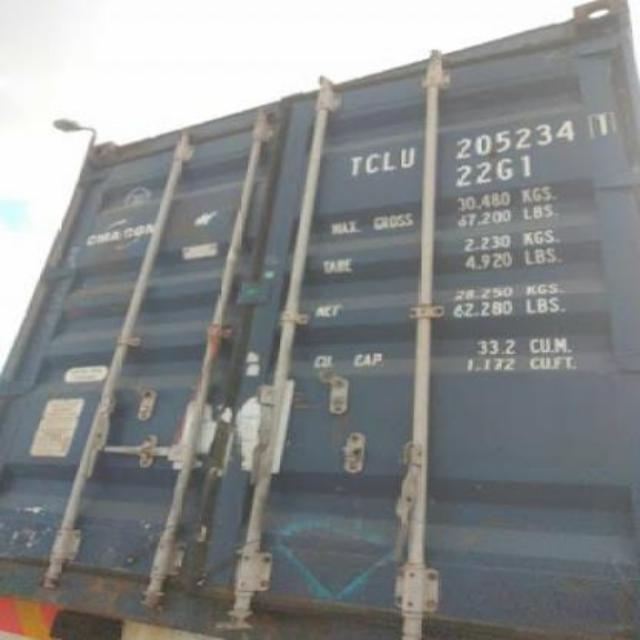0: (474, 134, 492, 154)
2: (454, 134, 472, 162), (514, 126, 534, 150)
3: (534, 122, 554, 146)
4: (556, 118, 578, 144)
5: (494, 128, 512, 154)
C: (368, 153, 380, 171)
L: (384, 148, 398, 174)
T: (348, 152, 364, 175)
U: (400, 148, 416, 168)
